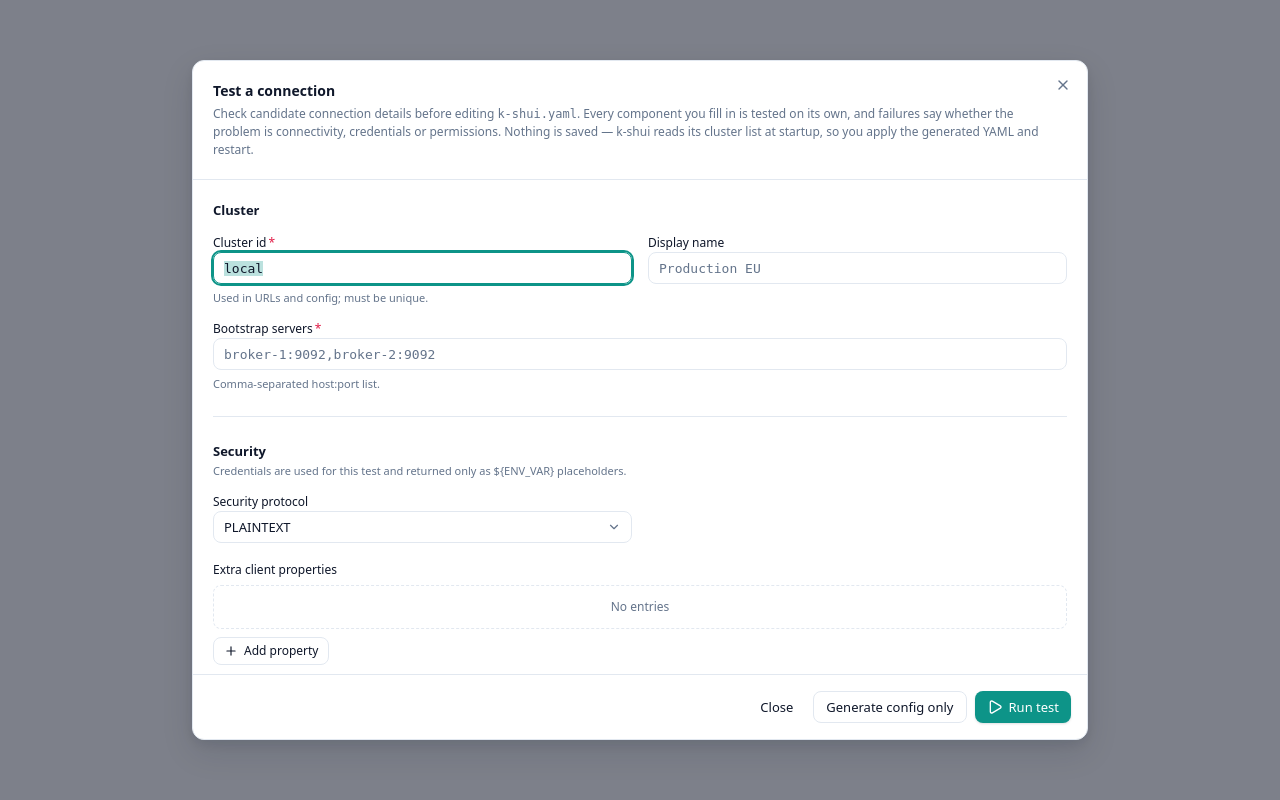
Test: ConnectionTesterDialog › refuses to submit without bootstrap servers
The image size is (1280, 800).
Click the button "Run test": (1023, 707) [974,691,1071,723]
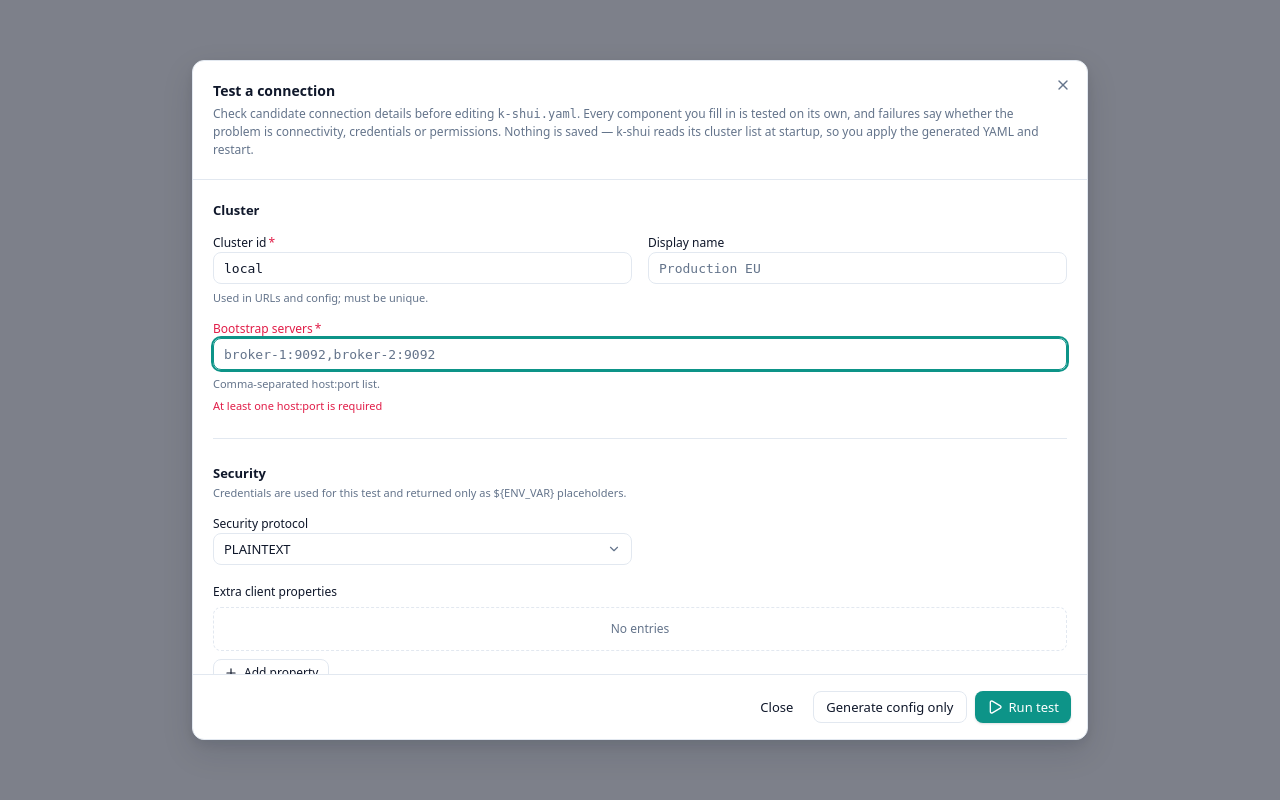
Check: the text "At least one host:port is required" is shown, box [213,398,382,413]
